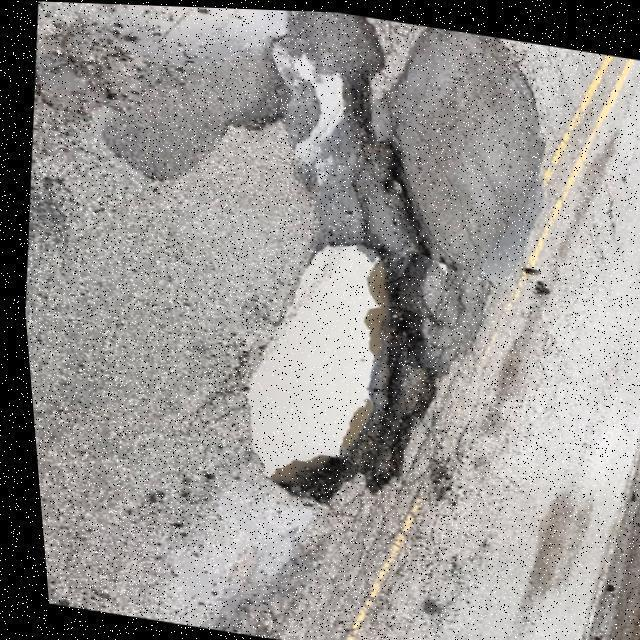Pothole: (33, 1, 470, 512)
